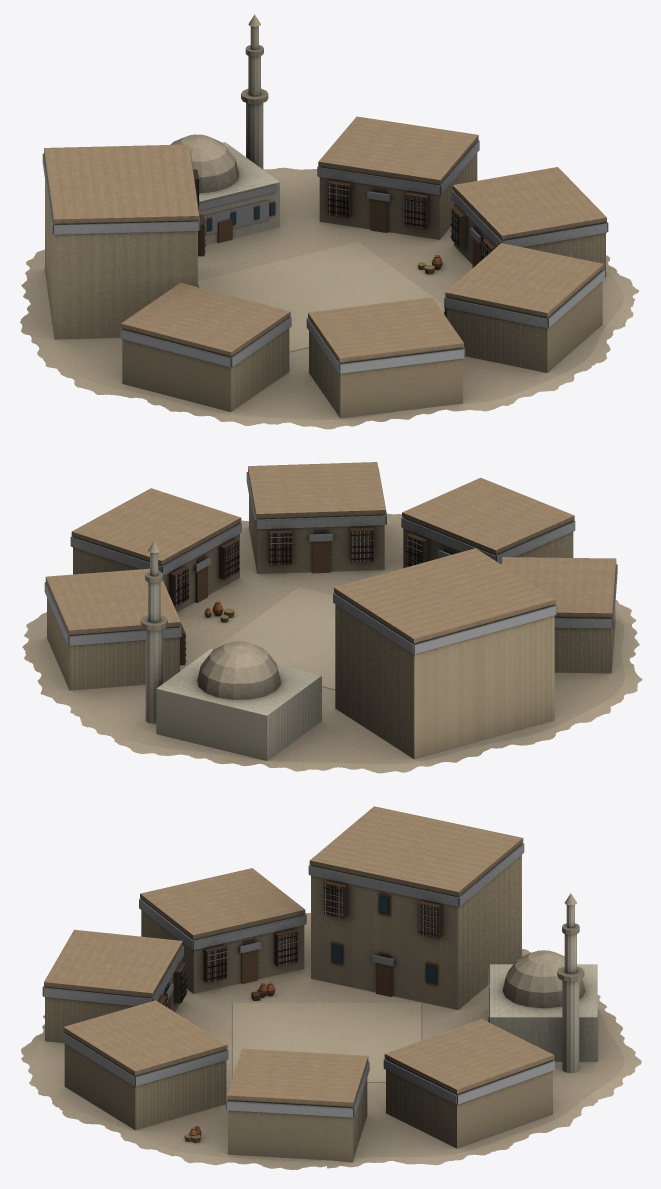
Rendered from kingdoms-town-small-a-nile.glb.
The picture shows the model from 3 angles, top to bottom: view 1: azimuth 30°, elevation 25°; view 2: azimuth 150°, elevation 25°; view 3: azimuth 270°, elevation 25°; orthographic projection.
Parts seen in each view (by area): view 1: LOD0; view 2: LOD0; view 3: LOD0.
Part boxes in pixels (x1,y1,x2,y2): LOD0: (20,14,638,429); LOD0: (22,462,642,773); LOD0: (21,806,641,1169).
Size of what is drawn, in the model's own units: 3.97 by 1.27 by 4.03.
3 materials, 3 textured.
